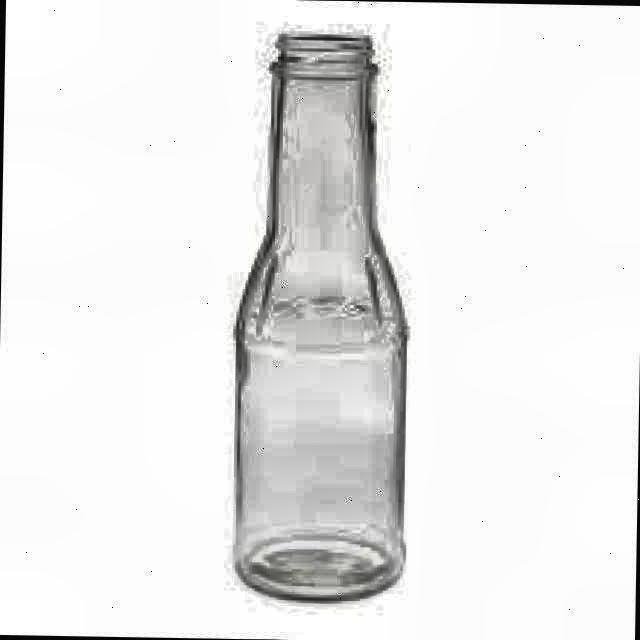glass: (231, 34, 411, 603)
